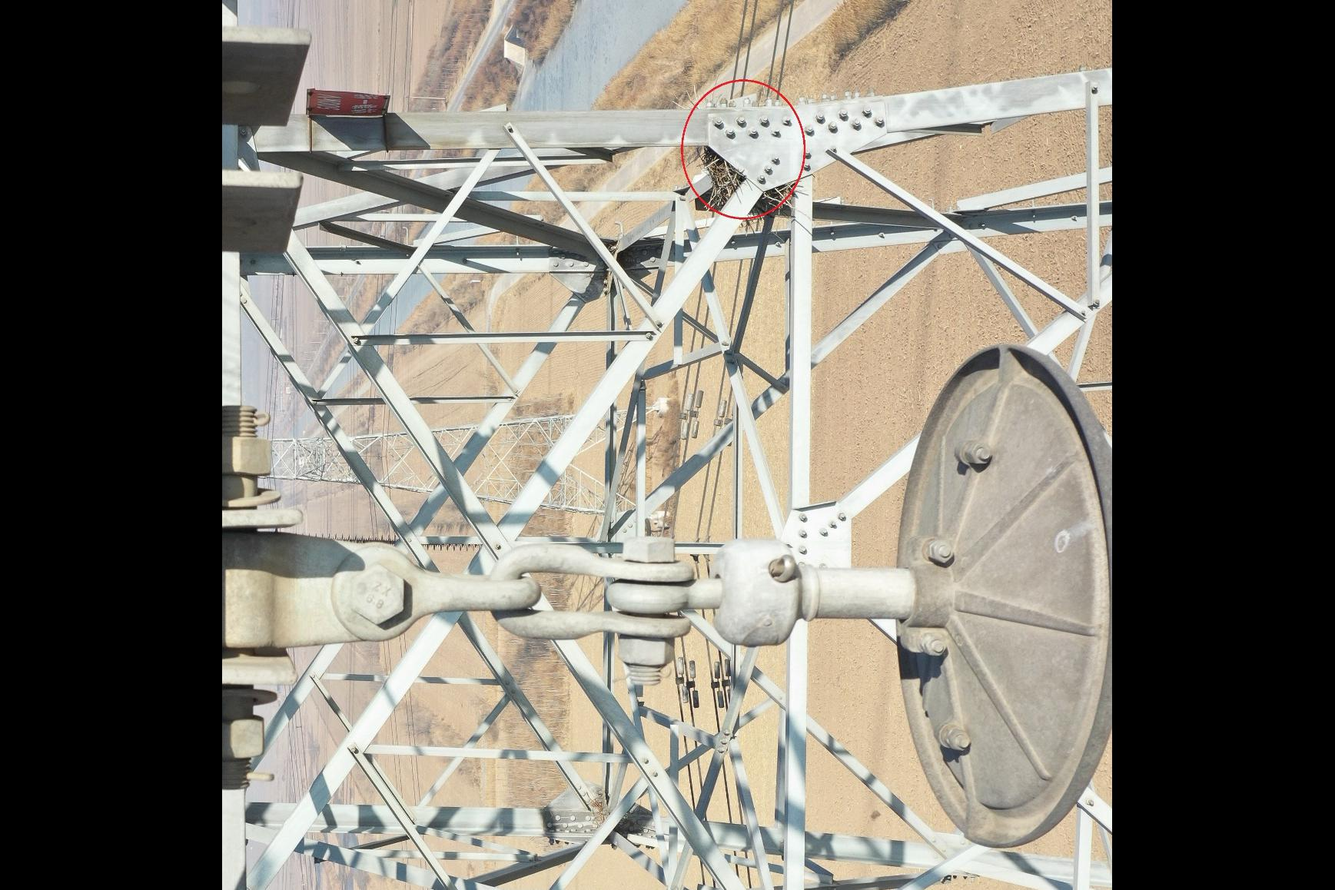damper: (707, 659, 727, 712), (672, 655, 690, 706), (684, 659, 701, 710)
nest: (691, 144, 799, 226)
